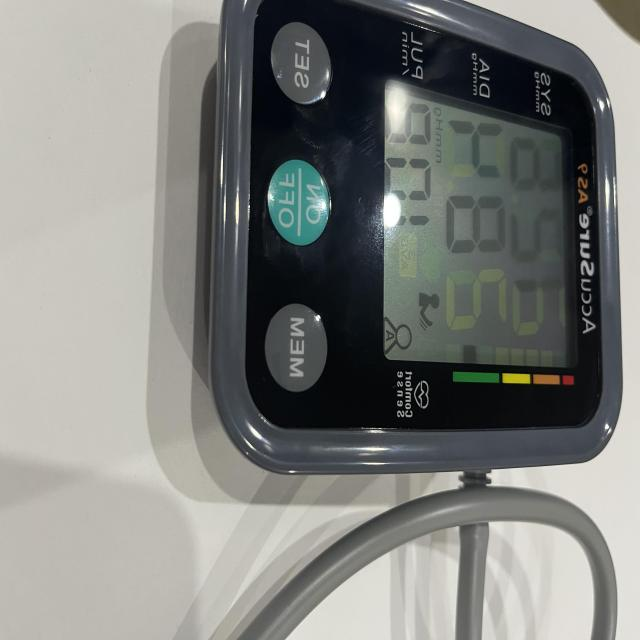bp: (190, 0, 634, 481)
